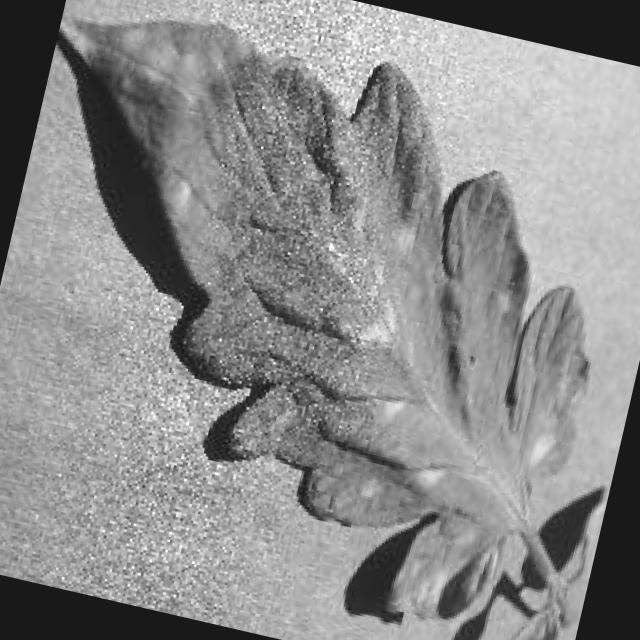leaf mold: (65, 14, 588, 624)
